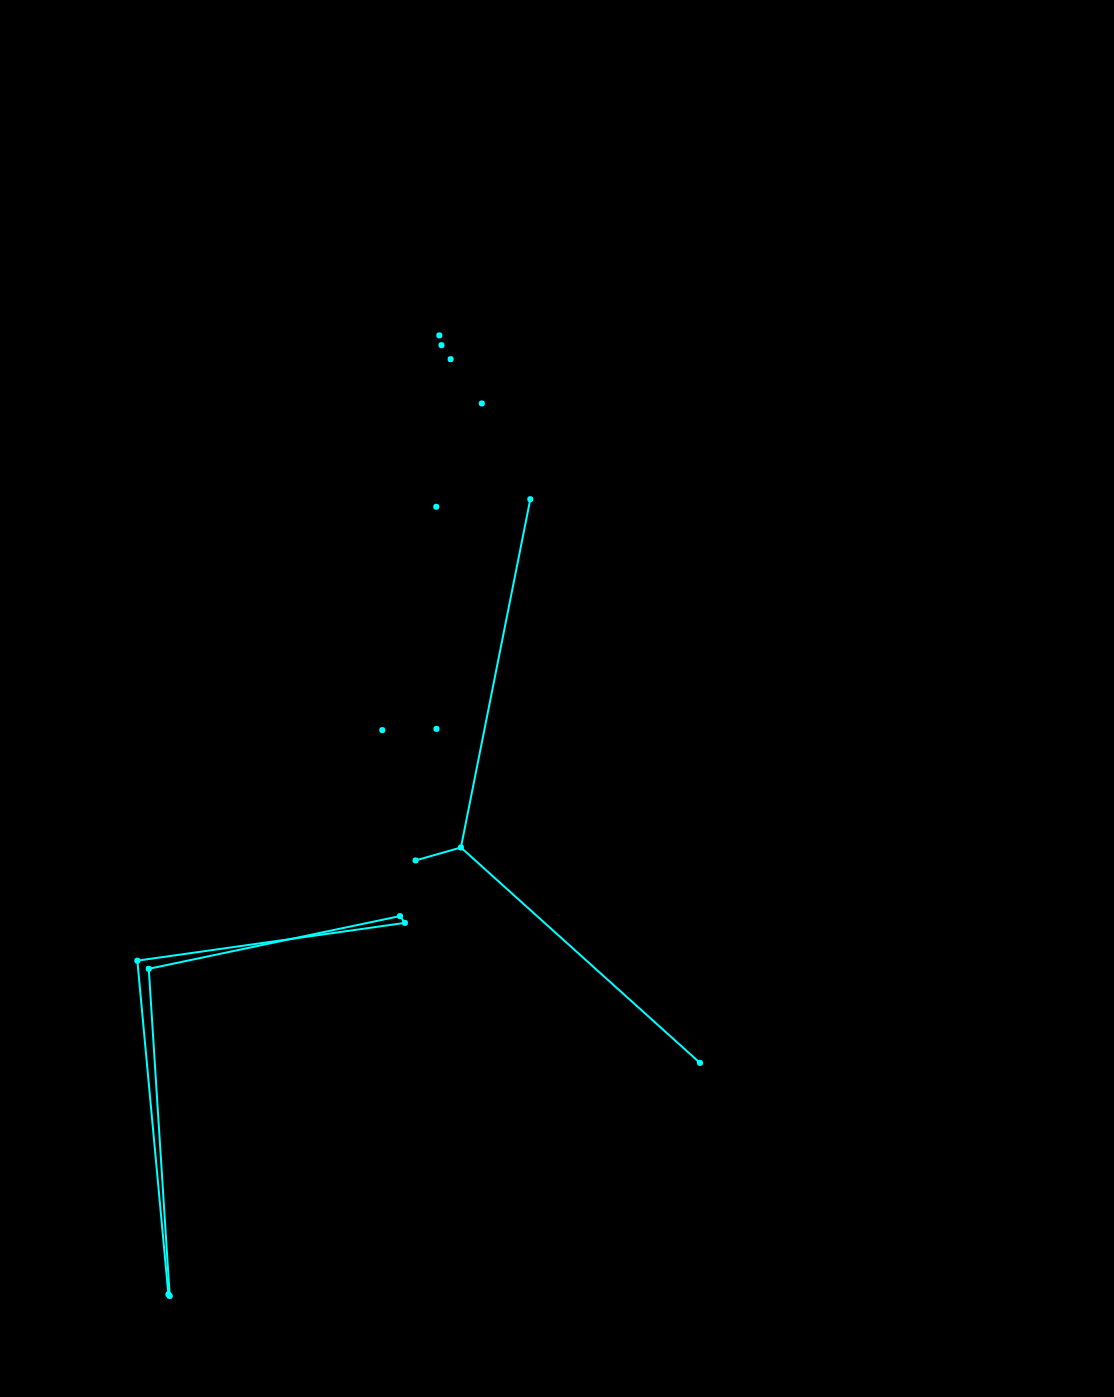warrior_1: (81, 303, 720, 1319)
